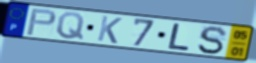7: (132, 17, 157, 48)
K: (95, 15, 124, 45)
L: (166, 22, 191, 52)
P: (25, 8, 58, 37)
Q: (55, 11, 86, 41)
S: (196, 25, 230, 56)
